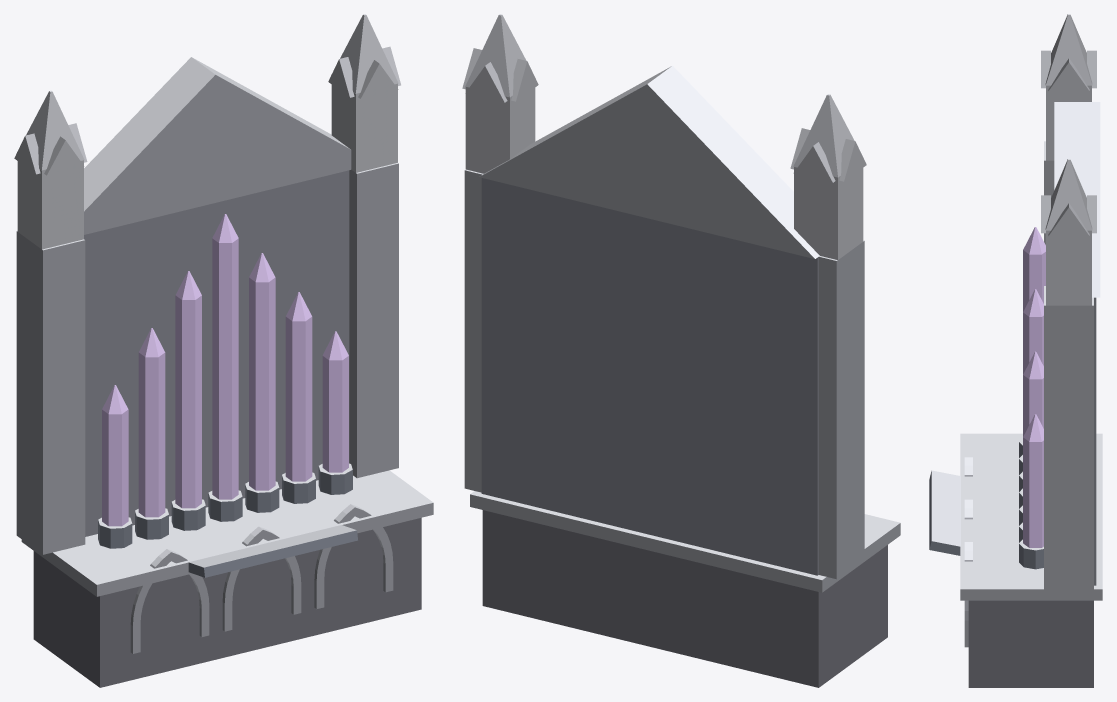
Rendered from PR_Orgao_Cristal.fbx.
3 renders of one model, left to right at view 1: azimuth 30°, elevation 25°; view 2: azimuth 150°, elevation 25°; view 3: azimuth 270°, elevation 25°, orthographic. The views are drawn at different scales.
Parts seen in each view (by area): view 1: PR_Orgao_Cristal; view 2: PR_Orgao_Cristal; view 3: PR_Orgao_Cristal.
Boxes of the visible parts, x1,y1,x2,y2 form: PR_Orgao_Cristal: (14, 14, 433, 687); PR_Orgao_Cristal: (462, 14, 900, 687); PR_Orgao_Cristal: (929, 14, 1102, 687).
Bounding box in the file's own units: 4.77 × 6.95 × 2.07.
